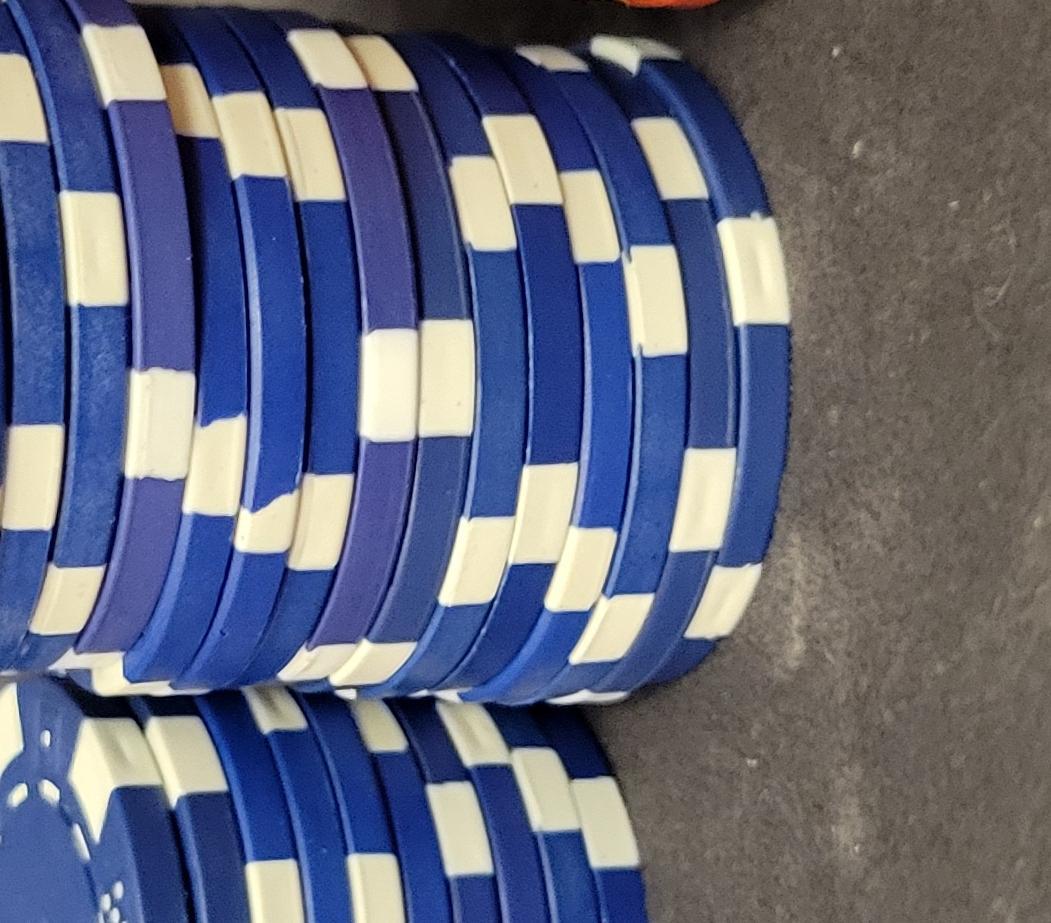Chip: (1, 345, 356, 923)
